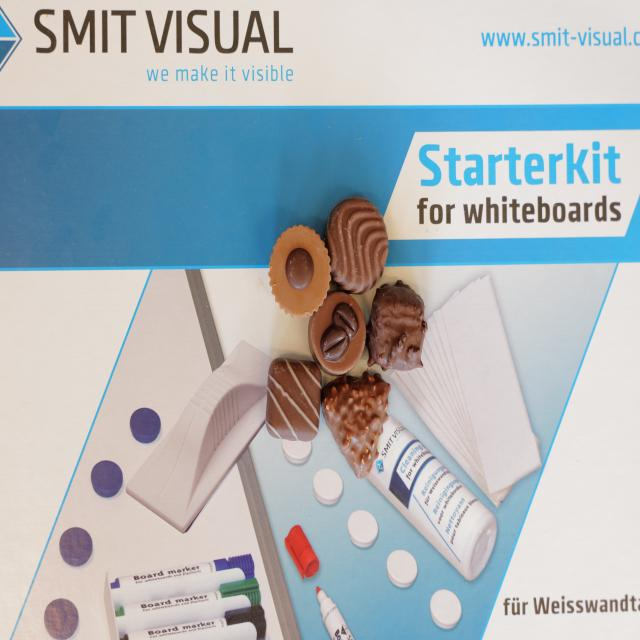Arabia: (307, 288, 367, 376)
Noblesse: (270, 224, 331, 316)
Noir_authentique: (326, 193, 386, 294)
Stracciatella: (266, 355, 324, 442)
Tentation_noir: (370, 282, 426, 372)
Triangolo: (322, 374, 391, 482)
